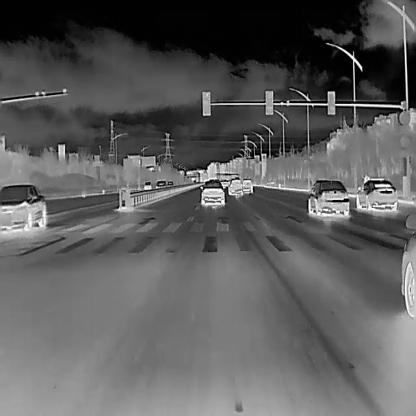car: (0, 183, 46, 232), (306, 178, 350, 214), (355, 177, 398, 212), (198, 178, 226, 206), (227, 177, 243, 196), (240, 176, 253, 193), (154, 178, 166, 192), (142, 180, 152, 190), (165, 180, 174, 190)
